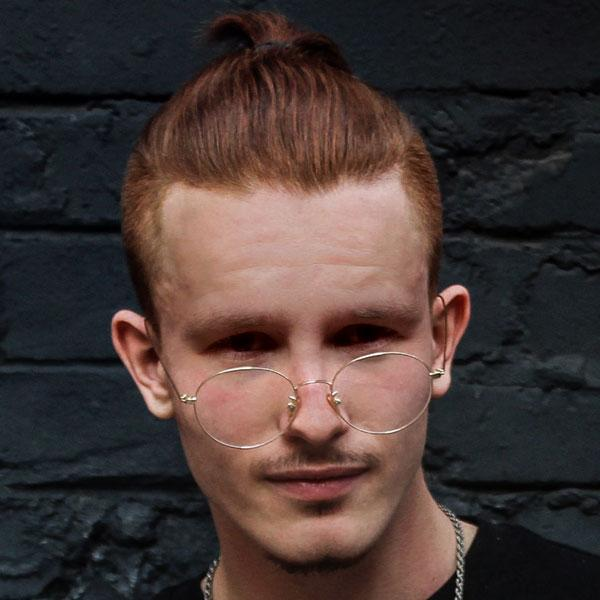Eyes: (199, 323, 289, 368), (321, 318, 405, 356)
